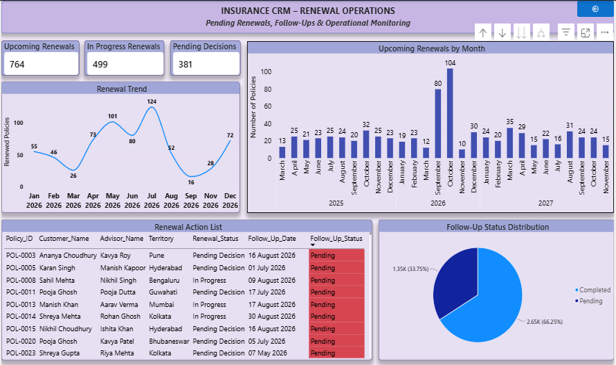

The dashboard page shown, as its layout file describes it:
{"tool":"powerbi","page":{"name":"Renewal Operations","canvas":[1920,1080],"ordinal":1},"visuals":[{"type":"shape","title":"INSURANCE CRM – RENEWAL OPERATIONS","box":[0,0,1920,95.7],"z":0},{"type":"cardVisual","title":"Upcoming Renewals","fields":{"Data":["Count(CRM RENEWAL DATA.Policy_ID)"]},"box":[0,117.6,243.8,104.5],"z":1000},{"type":"cardVisual","title":"In Progress Renewals","fields":{"Data":["Count(CRM RENEWAL DATA.Policy_ID)"]},"box":[261.2,117.6,250.3,104.5],"z":2000},{"type":"cardVisual","title":"Pending Decisions","fields":{"Data":["Count(CRM RENEWAL DATA.Policy_ID)"]},"box":[529,117.6,219.9,104.5],"z":3000},{"type":"lineChart","title":"Renewal Trend","fields":{"Category":["Calendar.Month-Year"],"Y":["Table for Measures.Renewed Policies"]},"box":[0,238.6,746.7,387.4],"z":4000},{"type":"tableEx","title":"Renewal Action List","fields":{"Values":["CRM RENEWAL DATA.Policy_ID","CRM RENEWAL DATA.Customer_Name","CRM RENEWAL DATA.Advisor_Name","CRM RENEWAL DATA.Territory","CRM RENEWAL DATA.Renewal_Status","CRM RENEWAL DATA.Follow_Up_Date","CRM RENEWAL DATA.Follow_Up_Status"]},"box":[0,645.6,1162.1,415.4],"z":5000},{"type":"pieChart","title":"Follow-Up Status Distribution","fields":{"Category":["CRM RENEWAL DATA.Follow_Up_Status"],"Y":["Count(CRM RENEWAL DATA.Policy_ID)"]},"box":[1181.8,645.6,738.2,415.4],"z":6000},{"type":"clusteredColumnChart","title":"Upcoming Renewals by Month","fields":{"Category":["CRM RENEWAL DATA.Policy_Expiry_Date.Variation.Date Hierarchy.Year","CRM RENEWAL DATA.Policy_Expiry_Date.Variation.Date Hierarchy.Month"],"Y":["Count(CRM RENEWAL DATA.Policy_ID)"]},"box":[770.8,118.8,1149.2,508.3],"z":7000},{"type":"actionButton","box":[1804.3,0,114.9,47.7],"z":8001}]}

Visuals, with their boxes in screenshot pixels (x1, y1, x2, y2):
"INSURANCE CRM – RENEWAL OPERATIONS" shape: BBox(3, 6, 611, 37)
"Upcoming Renewals" cardVisual: BBox(3, 44, 80, 77)
"In Progress Renewals" cardVisual: BBox(86, 44, 165, 77)
"Pending Decisions" cardVisual: BBox(171, 44, 240, 77)
"Renewal Trend" lineChart: BBox(3, 82, 239, 204)
"Renewal Action List" tableEx: BBox(3, 211, 371, 342)
"Follow-Up Status Distribution" pieChart: BBox(377, 211, 611, 342)
"Upcoming Renewals by Month" clusteredColumnChart: BBox(247, 44, 611, 205)
actionButton: BBox(574, 6, 610, 22)
